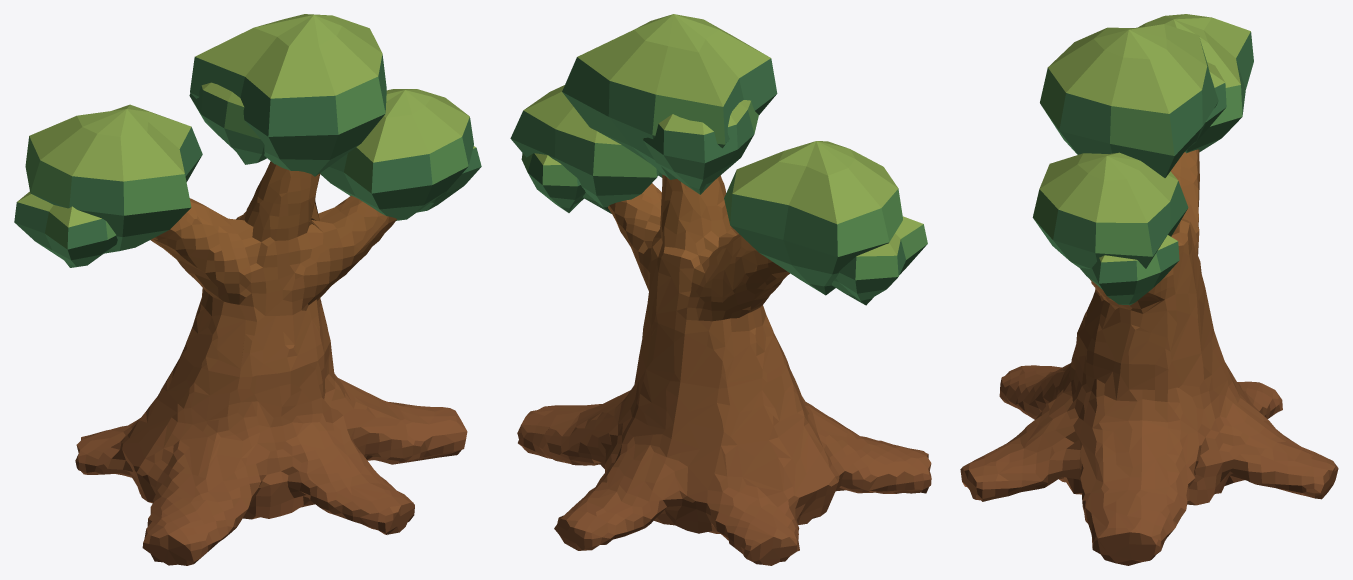
The model's file is rootbound-buttress-trial-a.glb.
3 views of the same model, side by side, from view 1: azimuth 30°, elevation 25°; view 2: azimuth 150°, elevation 25°; view 3: azimuth 270°, elevation 25° (orthographic).
Visible parts, largest first — view 1: SM_A2_Wood_ContinuousVoxelBlockout, SM_A2_Canopy_HighMain, SM_A2_Canopy_LeftMain, SM_A2_Canopy_RightMain, SM_A2_Canopy_LeftLower, SM_A2_Canopy_HighRear, SM_A2_Canopy_RightLow; view 2: SM_A2_Wood_ContinuousVoxelBlockout, SM_A2_Canopy_HighMain, SM_A2_Canopy_LeftMain, SM_A2_Canopy_RightMain, SM_A2_Canopy_HighRear, SM_A2_Canopy_LeftLower, SM_A2_Canopy_RightLow; view 3: SM_A2_Wood_ContinuousVoxelBlockout, SM_A2_Canopy_HighMain, SM_A2_Canopy_RightMain, SM_A2_Canopy_LeftMain, SM_A2_Canopy_RightLow, SM_A2_Canopy_HighRear.
Part boxes in pixels (x1,y1,x2,y2): SM_A2_Wood_ContinuousVoxelBlockout: (75,161,467,565); SM_A2_Canopy_HighMain: (190,14,386,176); SM_A2_Canopy_LeftMain: (25,104,202,253); SM_A2_Canopy_RightMain: (320,89,473,220); SM_A2_Canopy_LeftLower: (14,191,117,267); SM_A2_Canopy_HighRear: (189,82,266,164); SM_A2_Canopy_RightLow: (417,146,481,212); SM_A2_Wood_ContinuousVoxelBlockout: (517,174,931,565); SM_A2_Canopy_HighMain: (562,14,777,179); SM_A2_Canopy_LeftMain: (724,141,902,295); SM_A2_Canopy_RightMain: (510,85,658,213); SM_A2_Canopy_HighRear: (643,100,758,194); SM_A2_Canopy_LeftLower: (832,216,927,305); SM_A2_Canopy_RightLow: (521,153,585,212); SM_A2_Wood_ContinuousVoxelBlockout: (960,149,1338,565); SM_A2_Canopy_HighMain: (1040,24,1218,177); SM_A2_Canopy_RightMain: (1032,152,1188,268); SM_A2_Canopy_LeftMain: (1138,14,1253,153); SM_A2_Canopy_RightLow: (1079,235,1179,305); SM_A2_Canopy_HighRear: (1189,62,1226,147).
Size of the model in its own units: 5.43 by 5.85 by 4.26.
